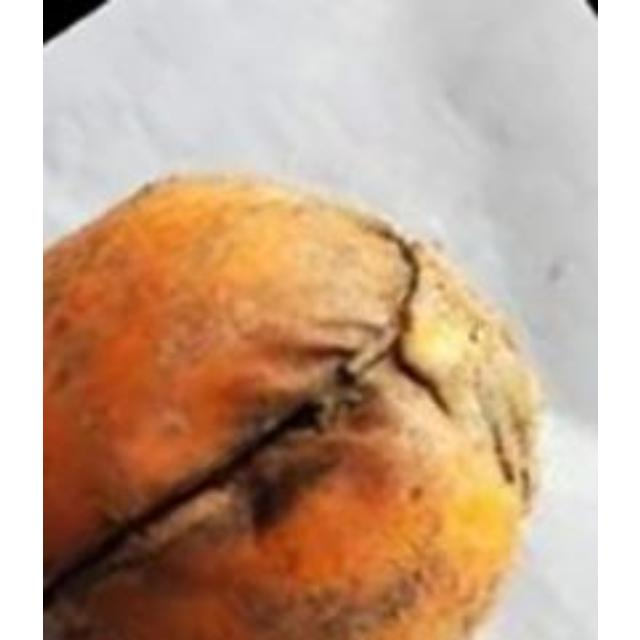damaged: (42, 173, 552, 637)
